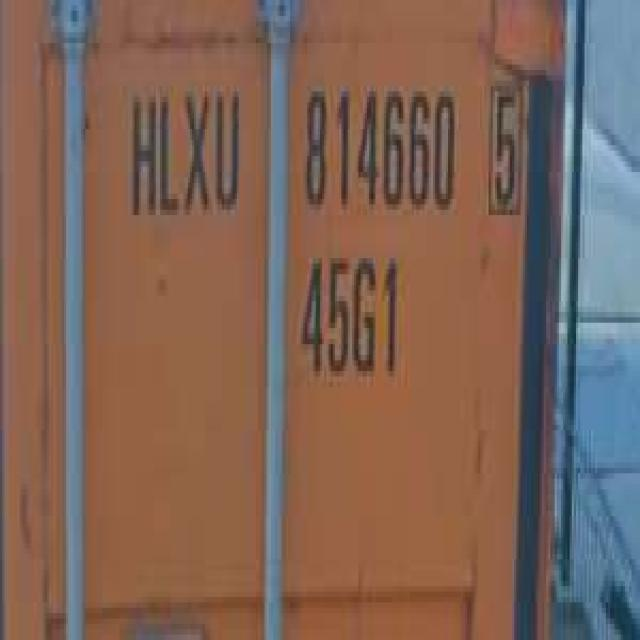dv: (482, 59, 527, 226)
owner: (124, 70, 243, 226)
serial: (296, 64, 458, 226)
size: (294, 236, 406, 392)
